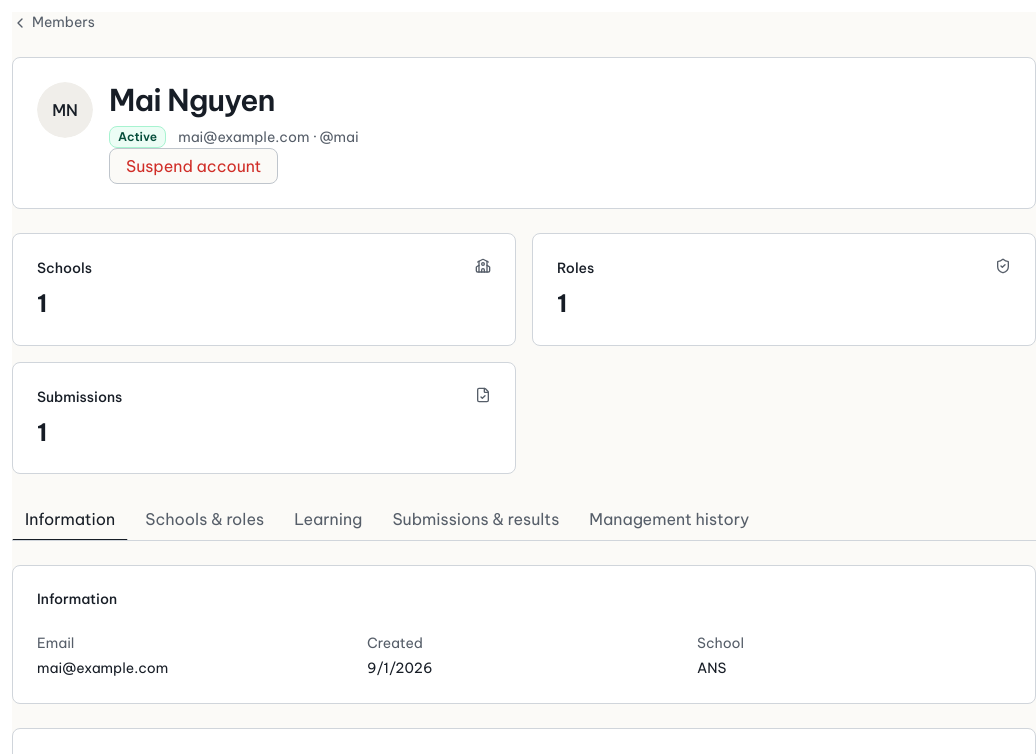
Test: MemberProfile (staff refresh) › links each submission to the canonical grading assignment route for graders
Click the tab "Submissions & results": (476, 520) [379,498,572,541]
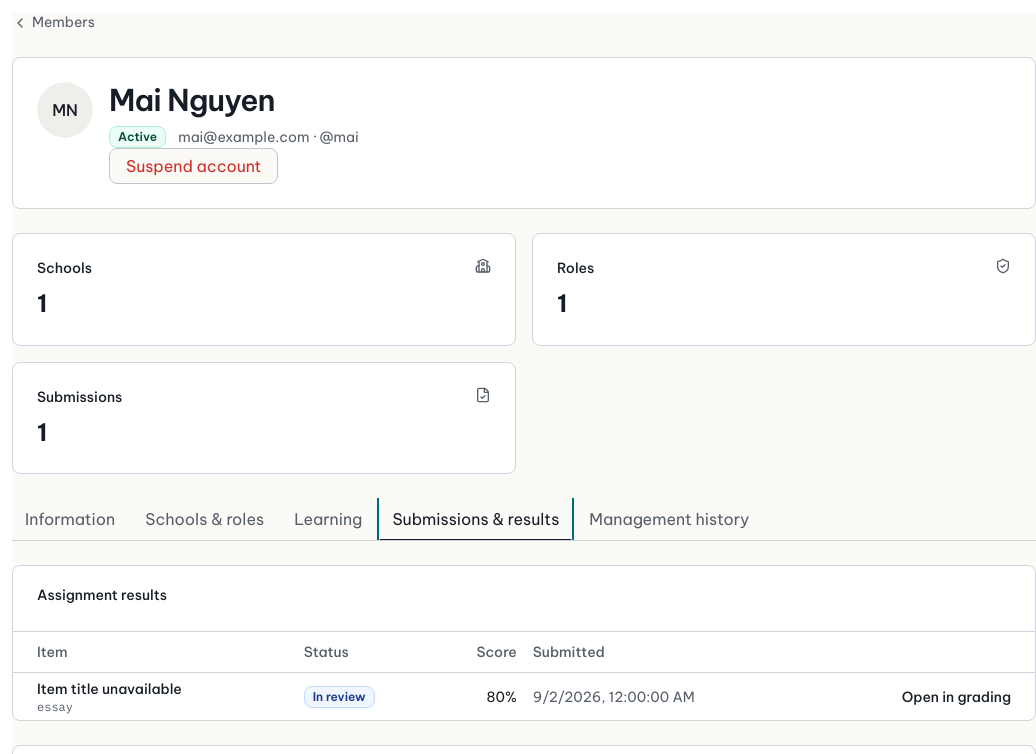
Check: the text "80%" is shown, box [435,672,525,720]
